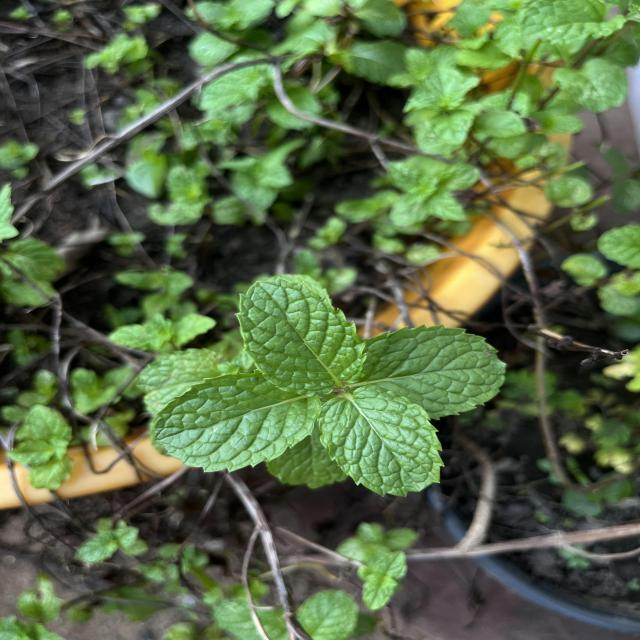Mentha spicata: (153, 369, 324, 474), (232, 275, 368, 398), (316, 384, 446, 498), (362, 323, 509, 422)
